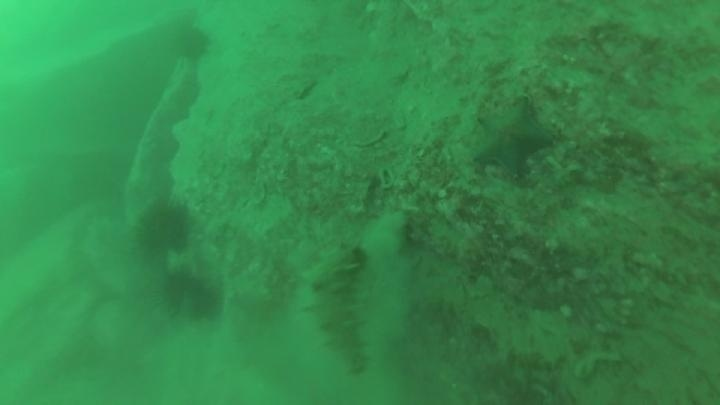echinus: (132, 197, 195, 259), (183, 278, 225, 324), (171, 23, 213, 64), (161, 269, 203, 307)
holothurian: (297, 242, 373, 378)
starfish: (469, 96, 557, 180)
